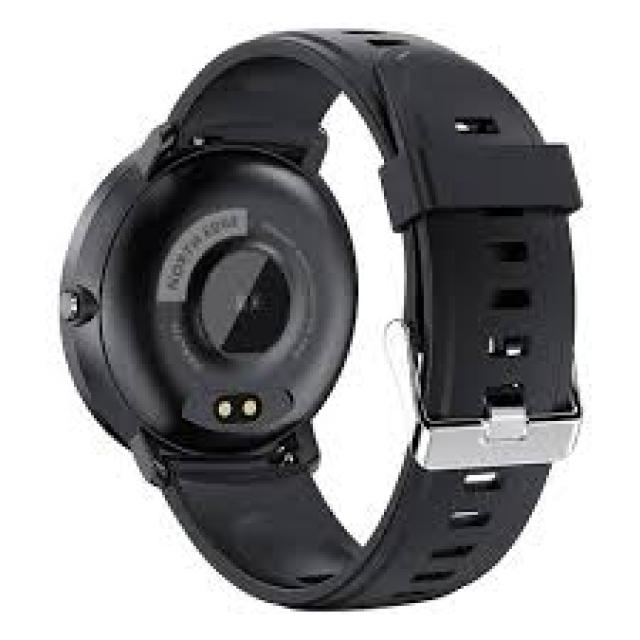objects: (58, 27, 577, 612)
